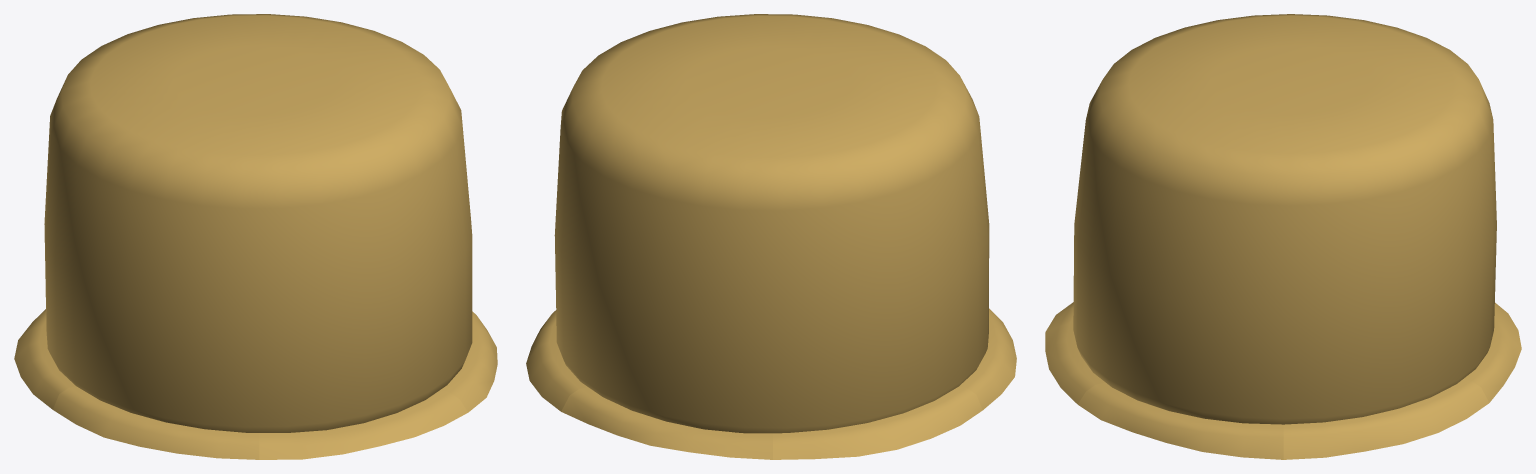
File: hay_bale_round_b.glb
3 renders of one model, left to right at view 1: azimuth 30°, elevation 25°; view 2: azimuth 150°, elevation 25°; view 3: azimuth 270°, elevation 25°, orthographic. The views are drawn at different scales.
Parts seen in each view (by area): view 1: hay_bale_round_b_lod0; view 2: hay_bale_round_b_lod0; view 3: hay_bale_round_b_lod0.
Part boxes in pixels (<box>): hay_bale_round_b_lod0: <box>14,14,497,459</box>; hay_bale_round_b_lod0: <box>526,14,1016,459</box>; hay_bale_round_b_lod0: <box>1045,14,1521,459</box>.
Size of what is drawn, in the model's own units: 1.76 by 1.13 by 1.76.
